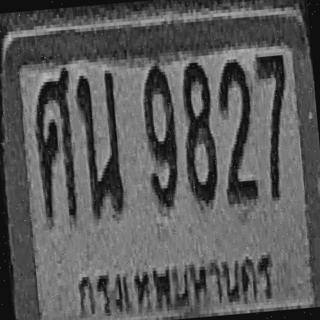A25: (74, 68, 125, 218)
A38: (30, 67, 80, 224)
N02: (215, 58, 259, 204)
N07: (254, 52, 296, 198)
N08: (178, 59, 220, 204)
N09: (140, 62, 181, 208)
P04: (70, 236, 279, 320)
